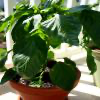Bell_pepper leaf: (13, 35, 49, 78), (40, 14, 82, 47), (48, 62, 78, 92)
